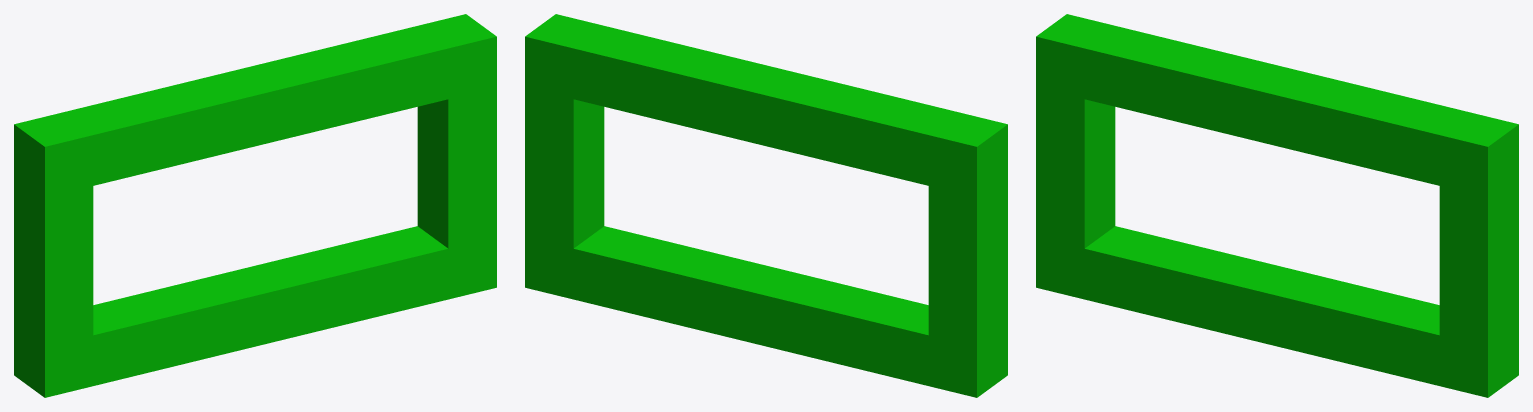
File: woods_0001_death_0001.obj
3 views of the same model, side by side, from view 1: azimuth 30°, elevation 25°; view 2: azimuth 150°, elevation 25°; view 3: azimuth 330°, elevation 25° (orthographic).
Visible parts, largest first — view 1: DEATH.001_Cube.1142; view 2: DEATH.001_Cube.1142; view 3: DEATH.001_Cube.1142.
Boxes of the visible parts, box(x1,y1,x2,y2) form: DEATH.001_Cube.1142: box(14, 14, 496, 397); DEATH.001_Cube.1142: box(525, 14, 1007, 397); DEATH.001_Cube.1142: box(1036, 14, 1518, 397).
Size of the model in its own units: 2283 by 1212 by 270.
